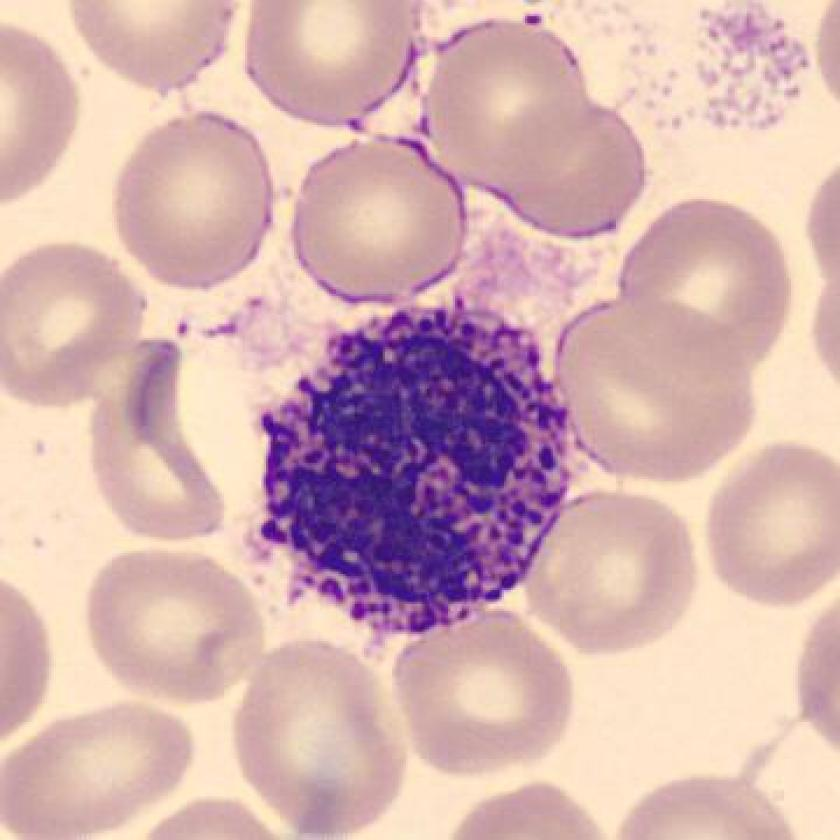basophil: (244, 293, 587, 649)
